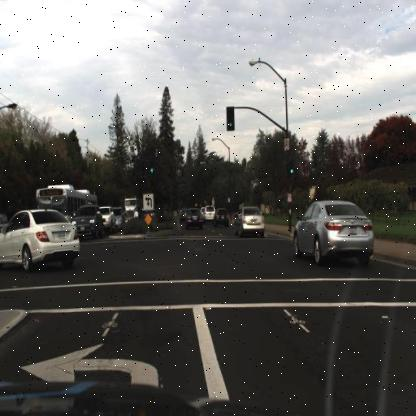car: (288, 196, 376, 272), (0, 207, 81, 275), (69, 202, 105, 243), (236, 206, 266, 239), (97, 204, 118, 234), (212, 205, 232, 231), (184, 207, 204, 231), (205, 202, 216, 225), (113, 204, 124, 226), (179, 208, 189, 224)
trafficLight: (225, 106, 237, 130), (149, 157, 156, 175)
trafficLight-Green: (288, 160, 295, 178), (289, 162, 294, 178)
truck: (36, 184, 97, 236), (123, 193, 142, 222)
